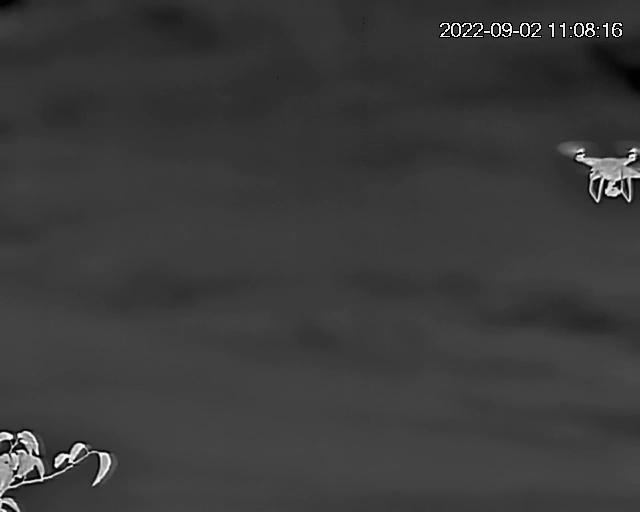DJI-Phantom: (565, 137, 640, 213)
